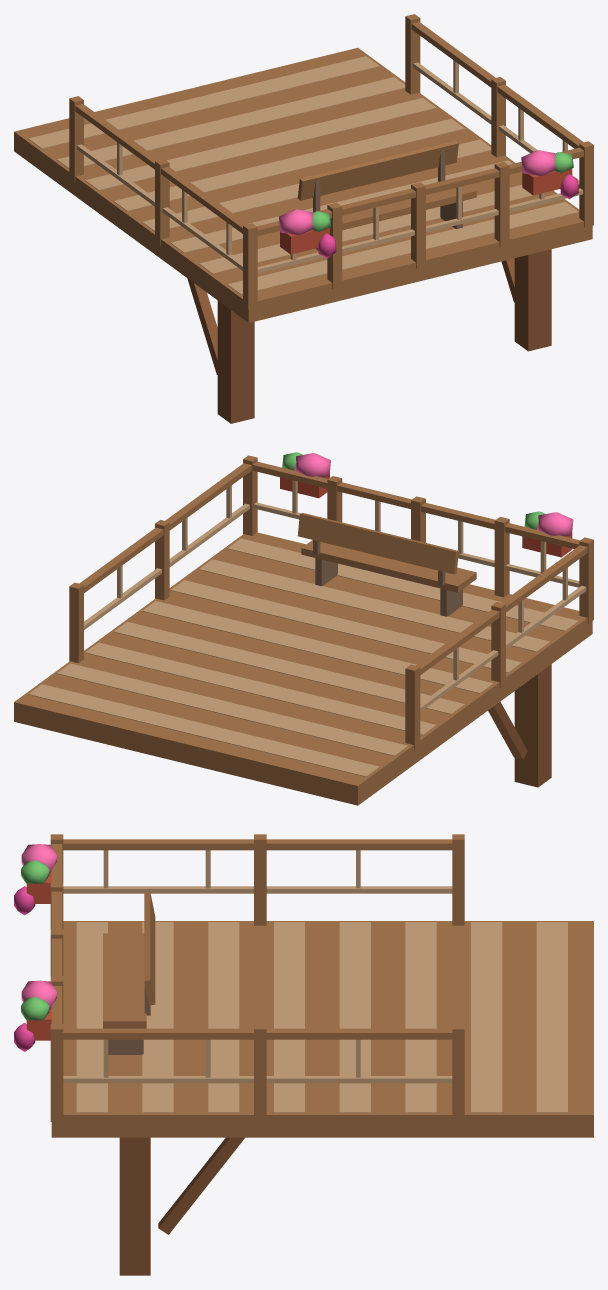
The model's file is ban-cong.glb.
3 renders of one model, top to bottom at view 1: azimuth 30°, elevation 25°; view 2: azimuth 150°, elevation 25°; view 3: azimuth 270°, elevation 25°, orthographic. The views are drawn at different scales.
Visible parts, largest first — view 1: ban-cong-0, ban-cong-1, ban-cong-2, ban-cong-4, ban-cong-5, ban-cong-3, ban-cong-7, ban-cong-6; view 2: ban-cong-0, ban-cong-1, ban-cong-2, ban-cong-5, ban-cong-3, ban-cong-4, ban-cong-6; view 3: ban-cong-0, ban-cong-1, ban-cong-2, ban-cong-5, ban-cong-6, ban-cong-4, ban-cong-7, ban-cong-3.
Part boxes in pixels (x1,y1,x2,y2): ban-cong-0: (14, 14, 593, 322); ban-cong-1: (28, 56, 583, 294); ban-cong-2: (187, 249, 551, 423); ban-cong-4: (280, 168, 572, 254); ban-cong-5: (279, 150, 555, 235); ban-cong-3: (313, 150, 462, 250); ban-cong-7: (318, 174, 578, 258); ban-cong-6: (312, 152, 573, 231); ban-cong-0: (14, 455, 593, 805); ban-cong-1: (28, 480, 586, 776); ban-cong-2: (488, 664, 551, 787); ban-cong-5: (294, 453, 573, 536); ban-cong-3: (313, 540, 462, 616); ban-cong-4: (280, 474, 572, 557); ban-cong-6: (282, 452, 544, 529); ban-cong-0: (50, 834, 593, 1137); ban-cong-1: (63, 850, 567, 1112); ban-cong-2: (119, 1137, 244, 1275); ban-cong-5: (21, 844, 56, 1010); ban-cong-6: (21, 860, 49, 1020); ban-cong-4: (26, 872, 51, 1040); ban-cong-7: (14, 886, 35, 1051); ban-cong-3: (108, 984, 150, 1054).
Size of the model in its own units: 4.42 by 2.84 by 5.56.
